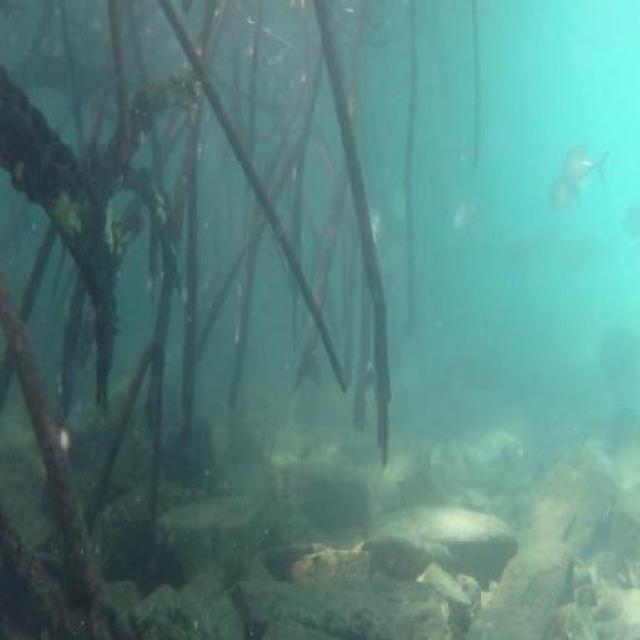Caranx_sexfasciatus_juvenile: (542, 169, 583, 225), (445, 186, 484, 243), (556, 145, 606, 189)
